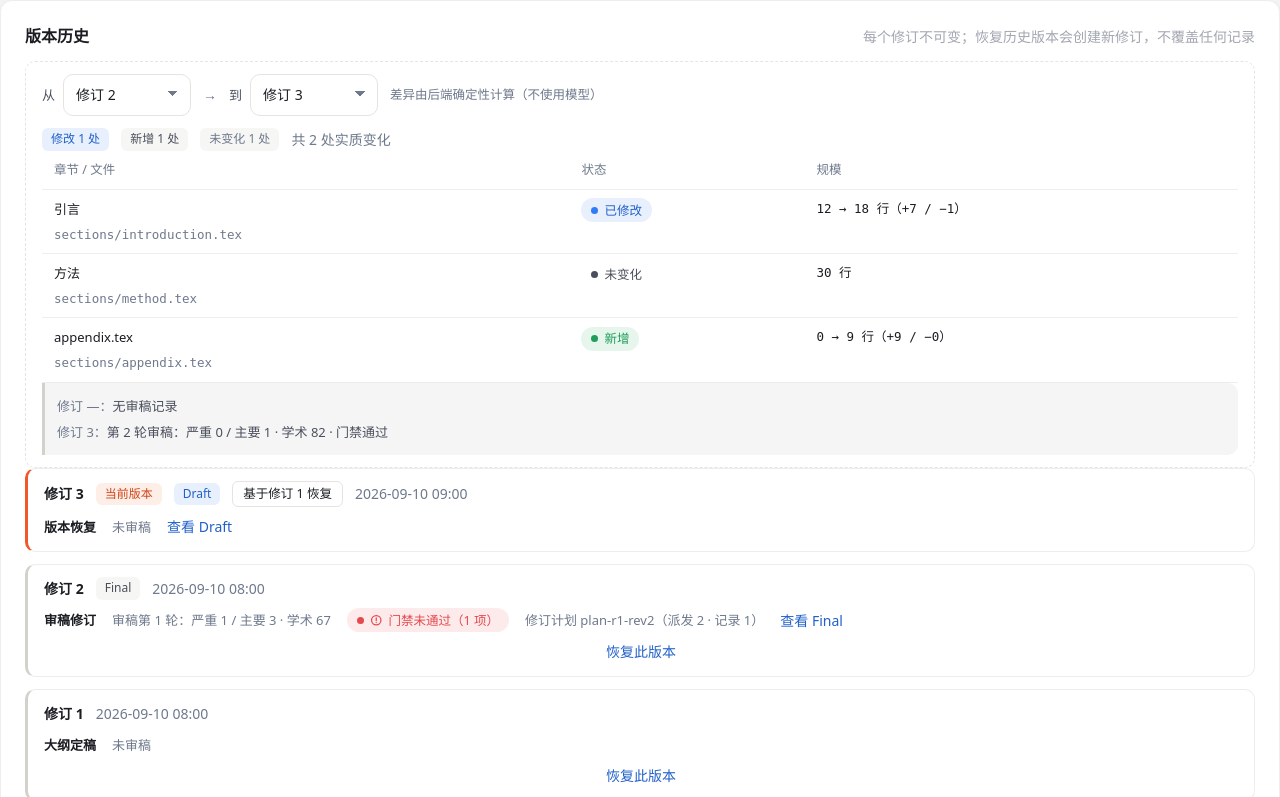
Test: 版本历史 › 恢复被拒绝（PROJECT_BUSY）：按业务语义映射，不透传内部信息
The image size is (1280, 797).
Click the button with test id "version-restore-button" below "审稿修订": coordinates (641, 652) [44,640,1238,664]
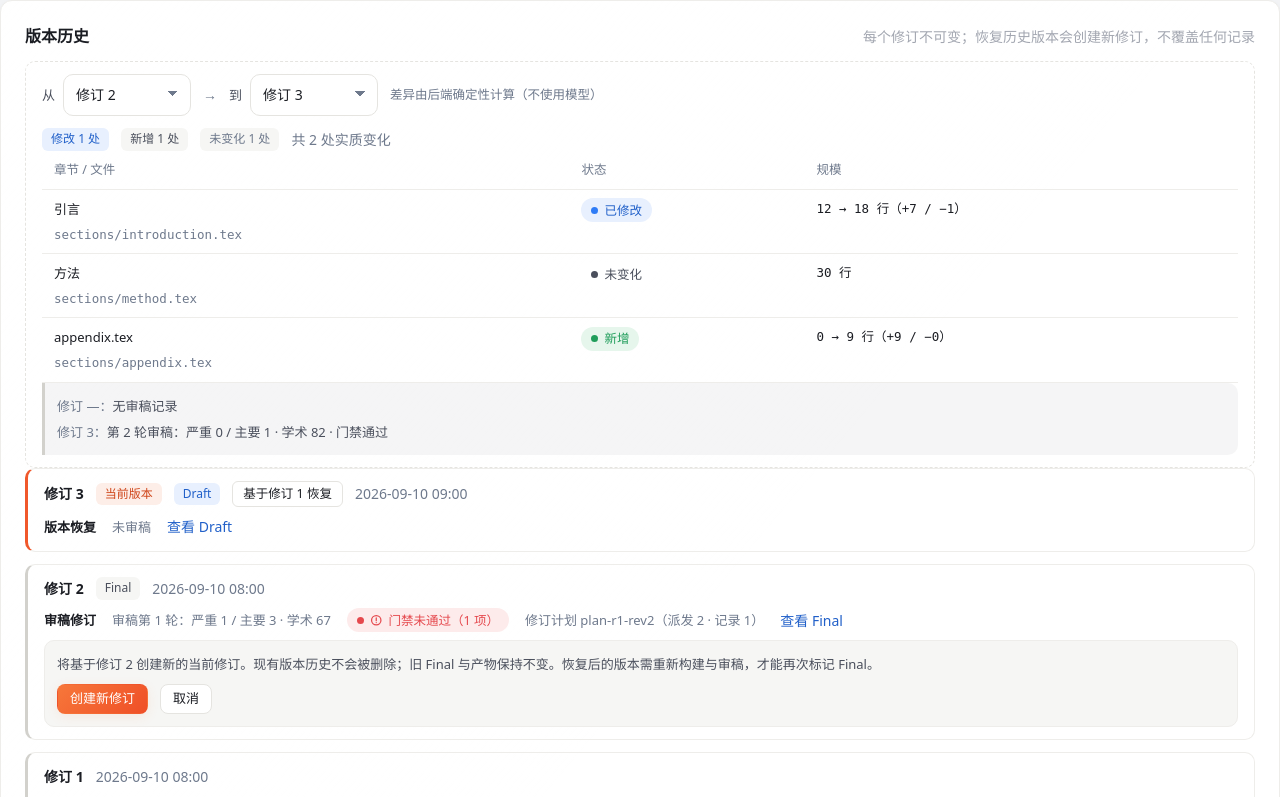
Click the button with test id "version-restore-confirm-button": coordinates (102, 698) [57,684,148,714]
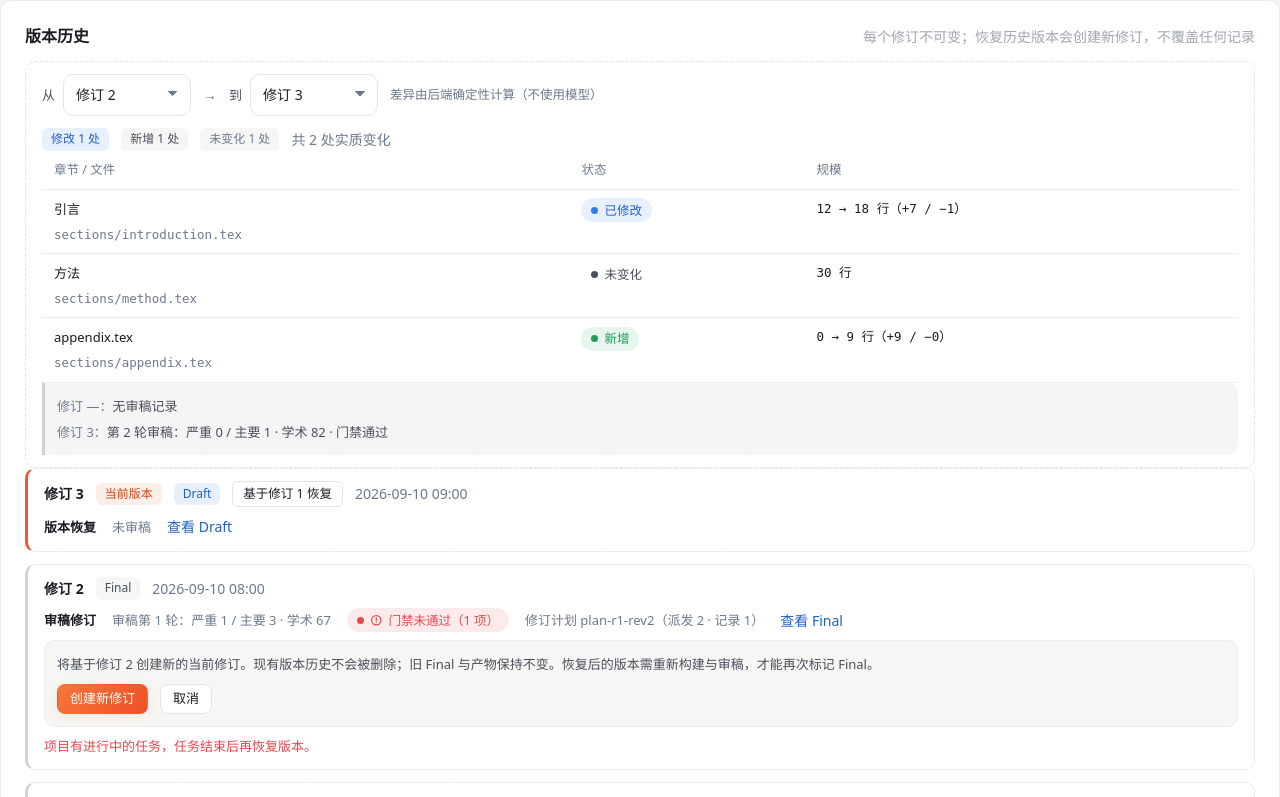
Check: the message with test id "version-restore-error" reads "项目有进行中的任务，任务结束后再恢复版本。", box [44,736,317,754]
